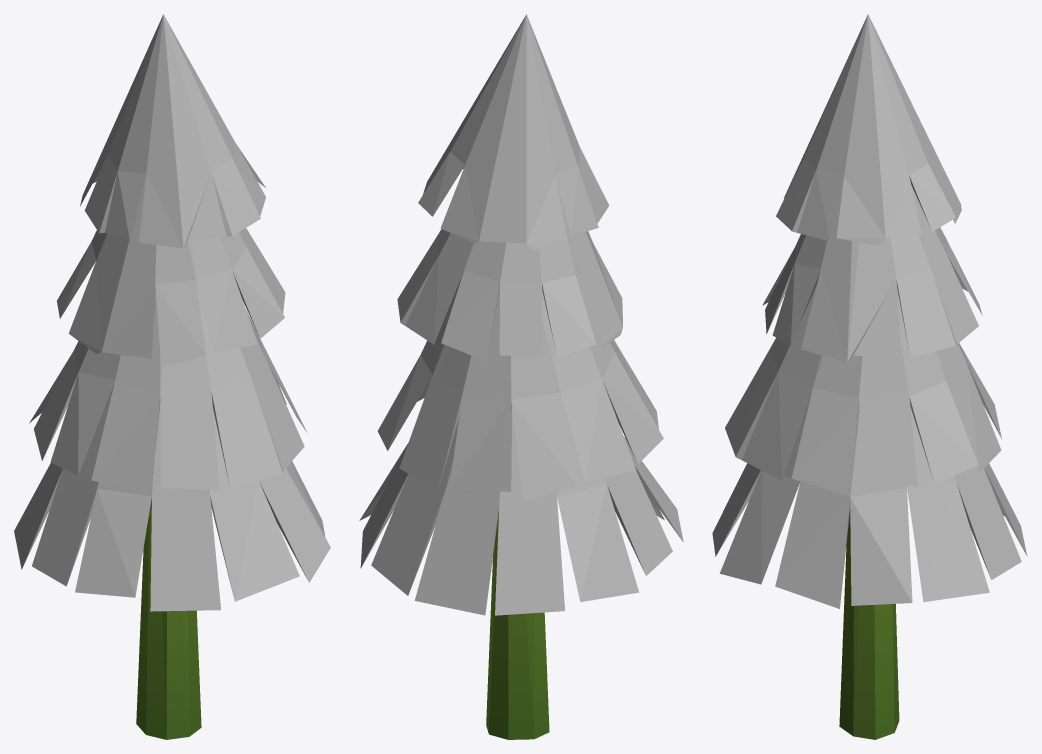
File: Tree_20.fbx
3 renders of one model, left to right at view 1: azimuth 30°, elevation 25°; view 2: azimuth 150°, elevation 25°; view 3: azimuth 270°, elevation 25°, orthographic.
Parts seen in each view (by area): view 1: Tree_20; view 2: Tree_20; view 3: Tree_20.
Part boxes in pixels (x1,y1,x2,y2): Tree_20: (14, 14, 330, 739); Tree_20: (359, 14, 683, 739); Tree_20: (712, 14, 1027, 739).
Bounding box in the file's own units: 2.76 × 6.94 × 2.8.
